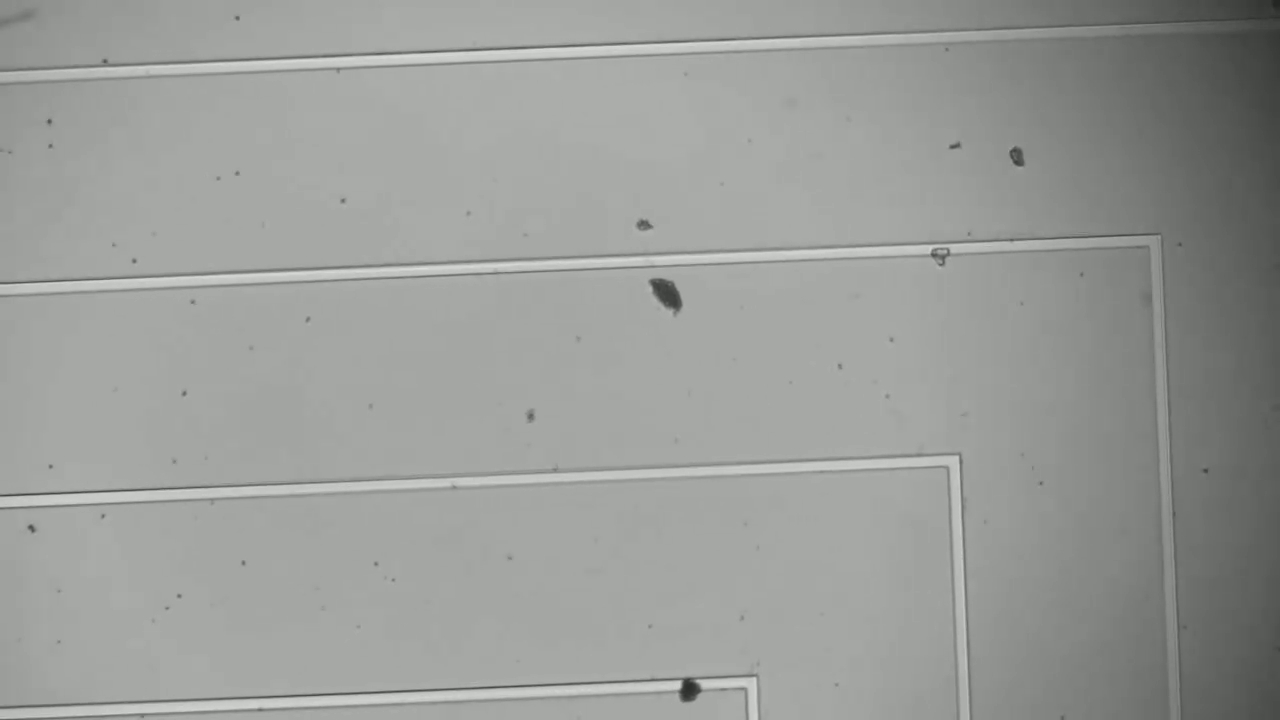stains_enbedded: (673, 666, 710, 711), (925, 238, 960, 274)
